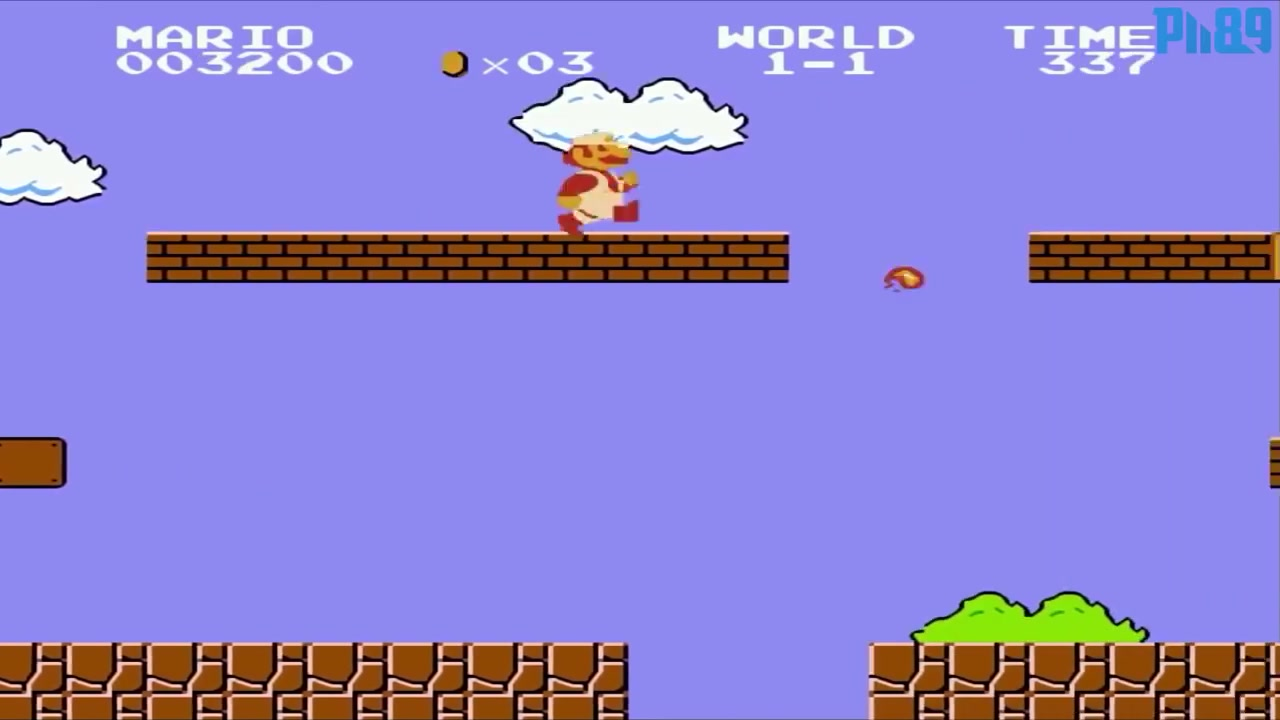mario: (550, 132, 639, 239)
